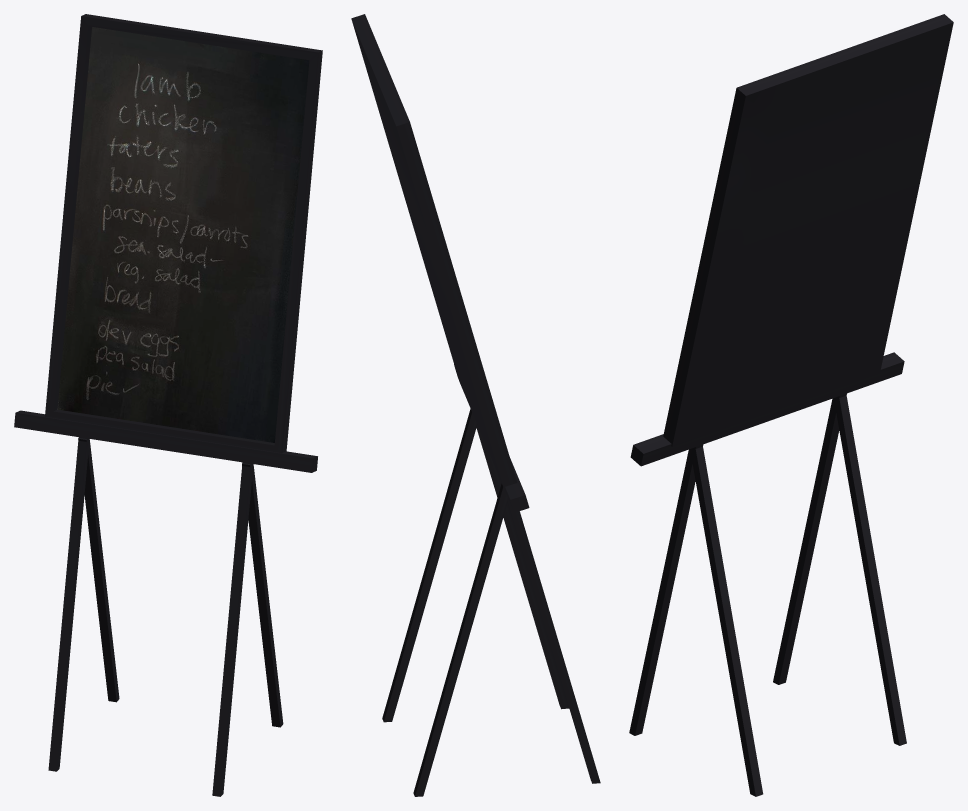
File: MenuBoard.FBX
3 renders of one model, left to right at view 1: azimuth 30°, elevation 25°; view 2: azimuth 150°, elevation 25°; view 3: azimuth 270°, elevation 25°, orthographic. The views are drawn at different scales.
Visible parts, largest first — view 1: Box117; view 2: Box117; view 3: Box117.
Part boxes in pixels (left/top/right/bottom): Box117: left=14, top=14, right=322, bottom=796; Box117: left=351, top=14, right=600, bottom=796; Box117: left=629, top=14, right=953, bottom=796.
Size of the model in its own units: 9.3 by 23.11 by 9.4.
Materials: 1 (1 with a texture image).
